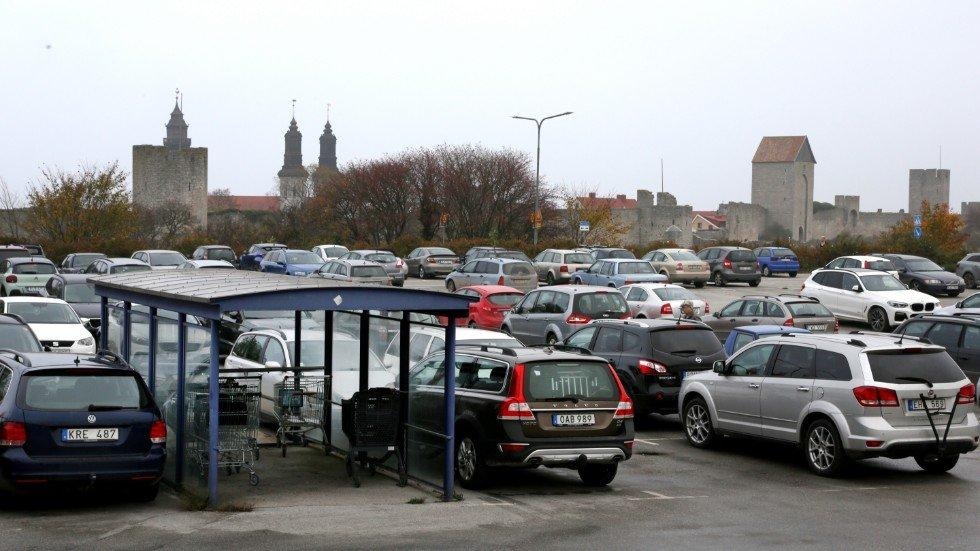license-plates: (62, 428, 117, 441), (556, 414, 596, 426)
